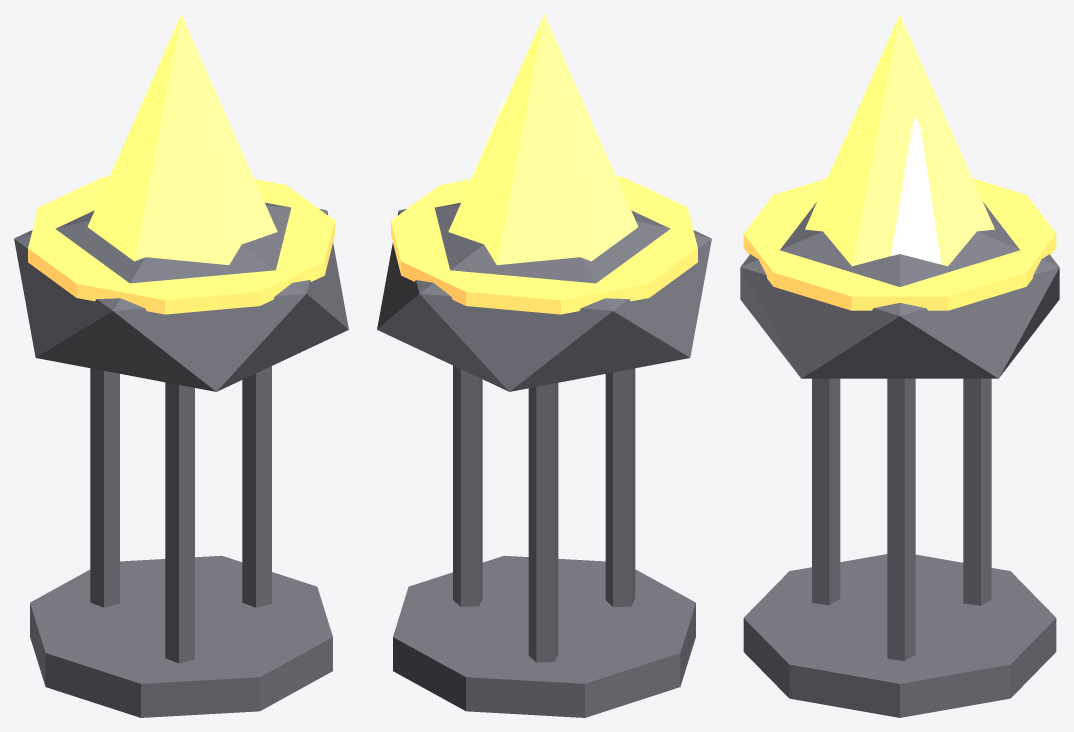
Rendered from Brazier.glb.
The picture shows the model from 3 angles, left to right: view 1: azimuth 30°, elevation 25°; view 2: azimuth 150°, elevation 25°; view 3: azimuth 270°, elevation 25°; orthographic projection.
Visible parts, largest first — view 1: Brazier_Foot, Brazier_Bowl, Brazier_Flame, Brazier_Coals, Brazier_Leg.002, Brazier_Leg.001, Brazier_Leg; view 2: Brazier_Foot, Brazier_Bowl, Brazier_Flame, Brazier_Coals, Brazier_Leg.001, Brazier_Leg.002, Brazier_Leg; view 3: Brazier_Foot, Brazier_Bowl, Brazier_Flame, Brazier_Coals, Brazier_Leg, Brazier_Leg.001, Brazier_Leg.002, Brazier_Flame.001.
Boxes of the visible parts, bbox=[...] form: Brazier_Foot: bbox=[30, 555, 332, 717]; Brazier_Bowl: bbox=[14, 202, 348, 391]; Brazier_Flame: bbox=[87, 14, 277, 265]; Brazier_Coals: bbox=[28, 176, 334, 314]; Brazier_Leg.002: bbox=[165, 382, 194, 663]; Brazier_Leg.001: bbox=[90, 368, 119, 607]; Brazier_Leg: bbox=[242, 366, 271, 607]; Brazier_Foot: bbox=[393, 555, 695, 717]; Brazier_Bowl: bbox=[377, 202, 711, 391]; Brazier_Flame: bbox=[448, 14, 638, 265]; Brazier_Coals: bbox=[391, 176, 697, 314]; Brazier_Leg.001: bbox=[528, 383, 558, 662]; Brazier_Leg.002: bbox=[605, 368, 635, 607]; Brazier_Leg: bbox=[453, 365, 482, 606]; Brazier_Foot: bbox=[743, 554, 1056, 717]; Brazier_Bowl: bbox=[740, 202, 1059, 378]; Brazier_Flame: bbox=[805, 14, 994, 266]; Brazier_Coals: bbox=[743, 178, 1056, 310]; Brazier_Leg: bbox=[887, 378, 915, 660]; Brazier_Leg.001: bbox=[963, 378, 991, 605]; Brazier_Leg.002: bbox=[812, 378, 840, 605]; Brazier_Flame.001: bbox=[891, 115, 941, 264].
Size of the model in its own units: 1.07 by 2.25 by 1.02.
